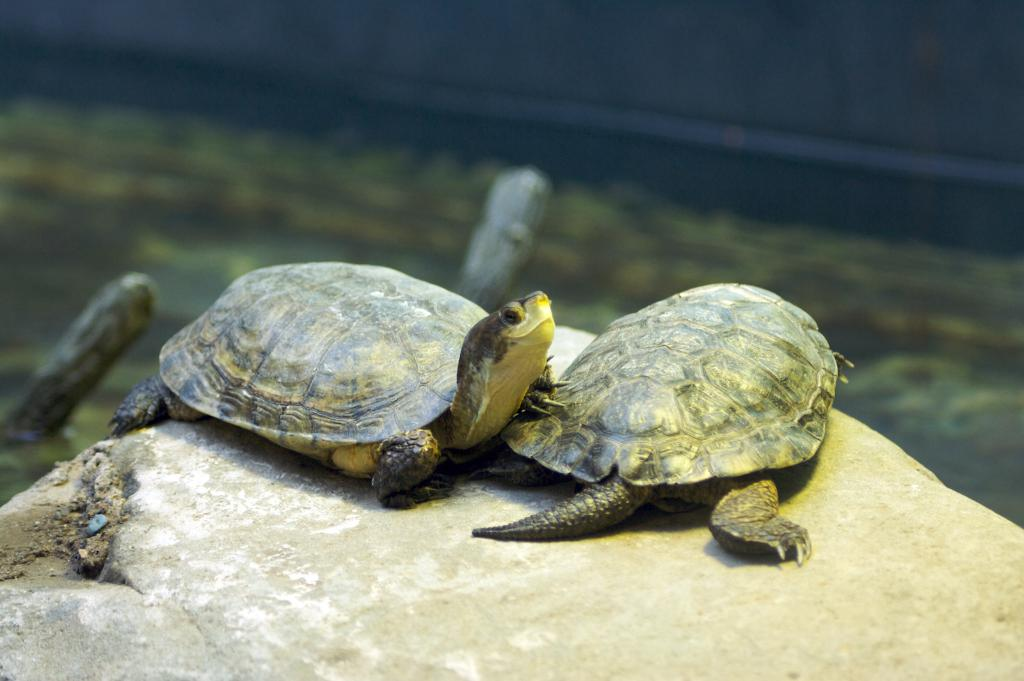Sea turtles: (106, 261, 572, 516), (470, 281, 856, 569)
